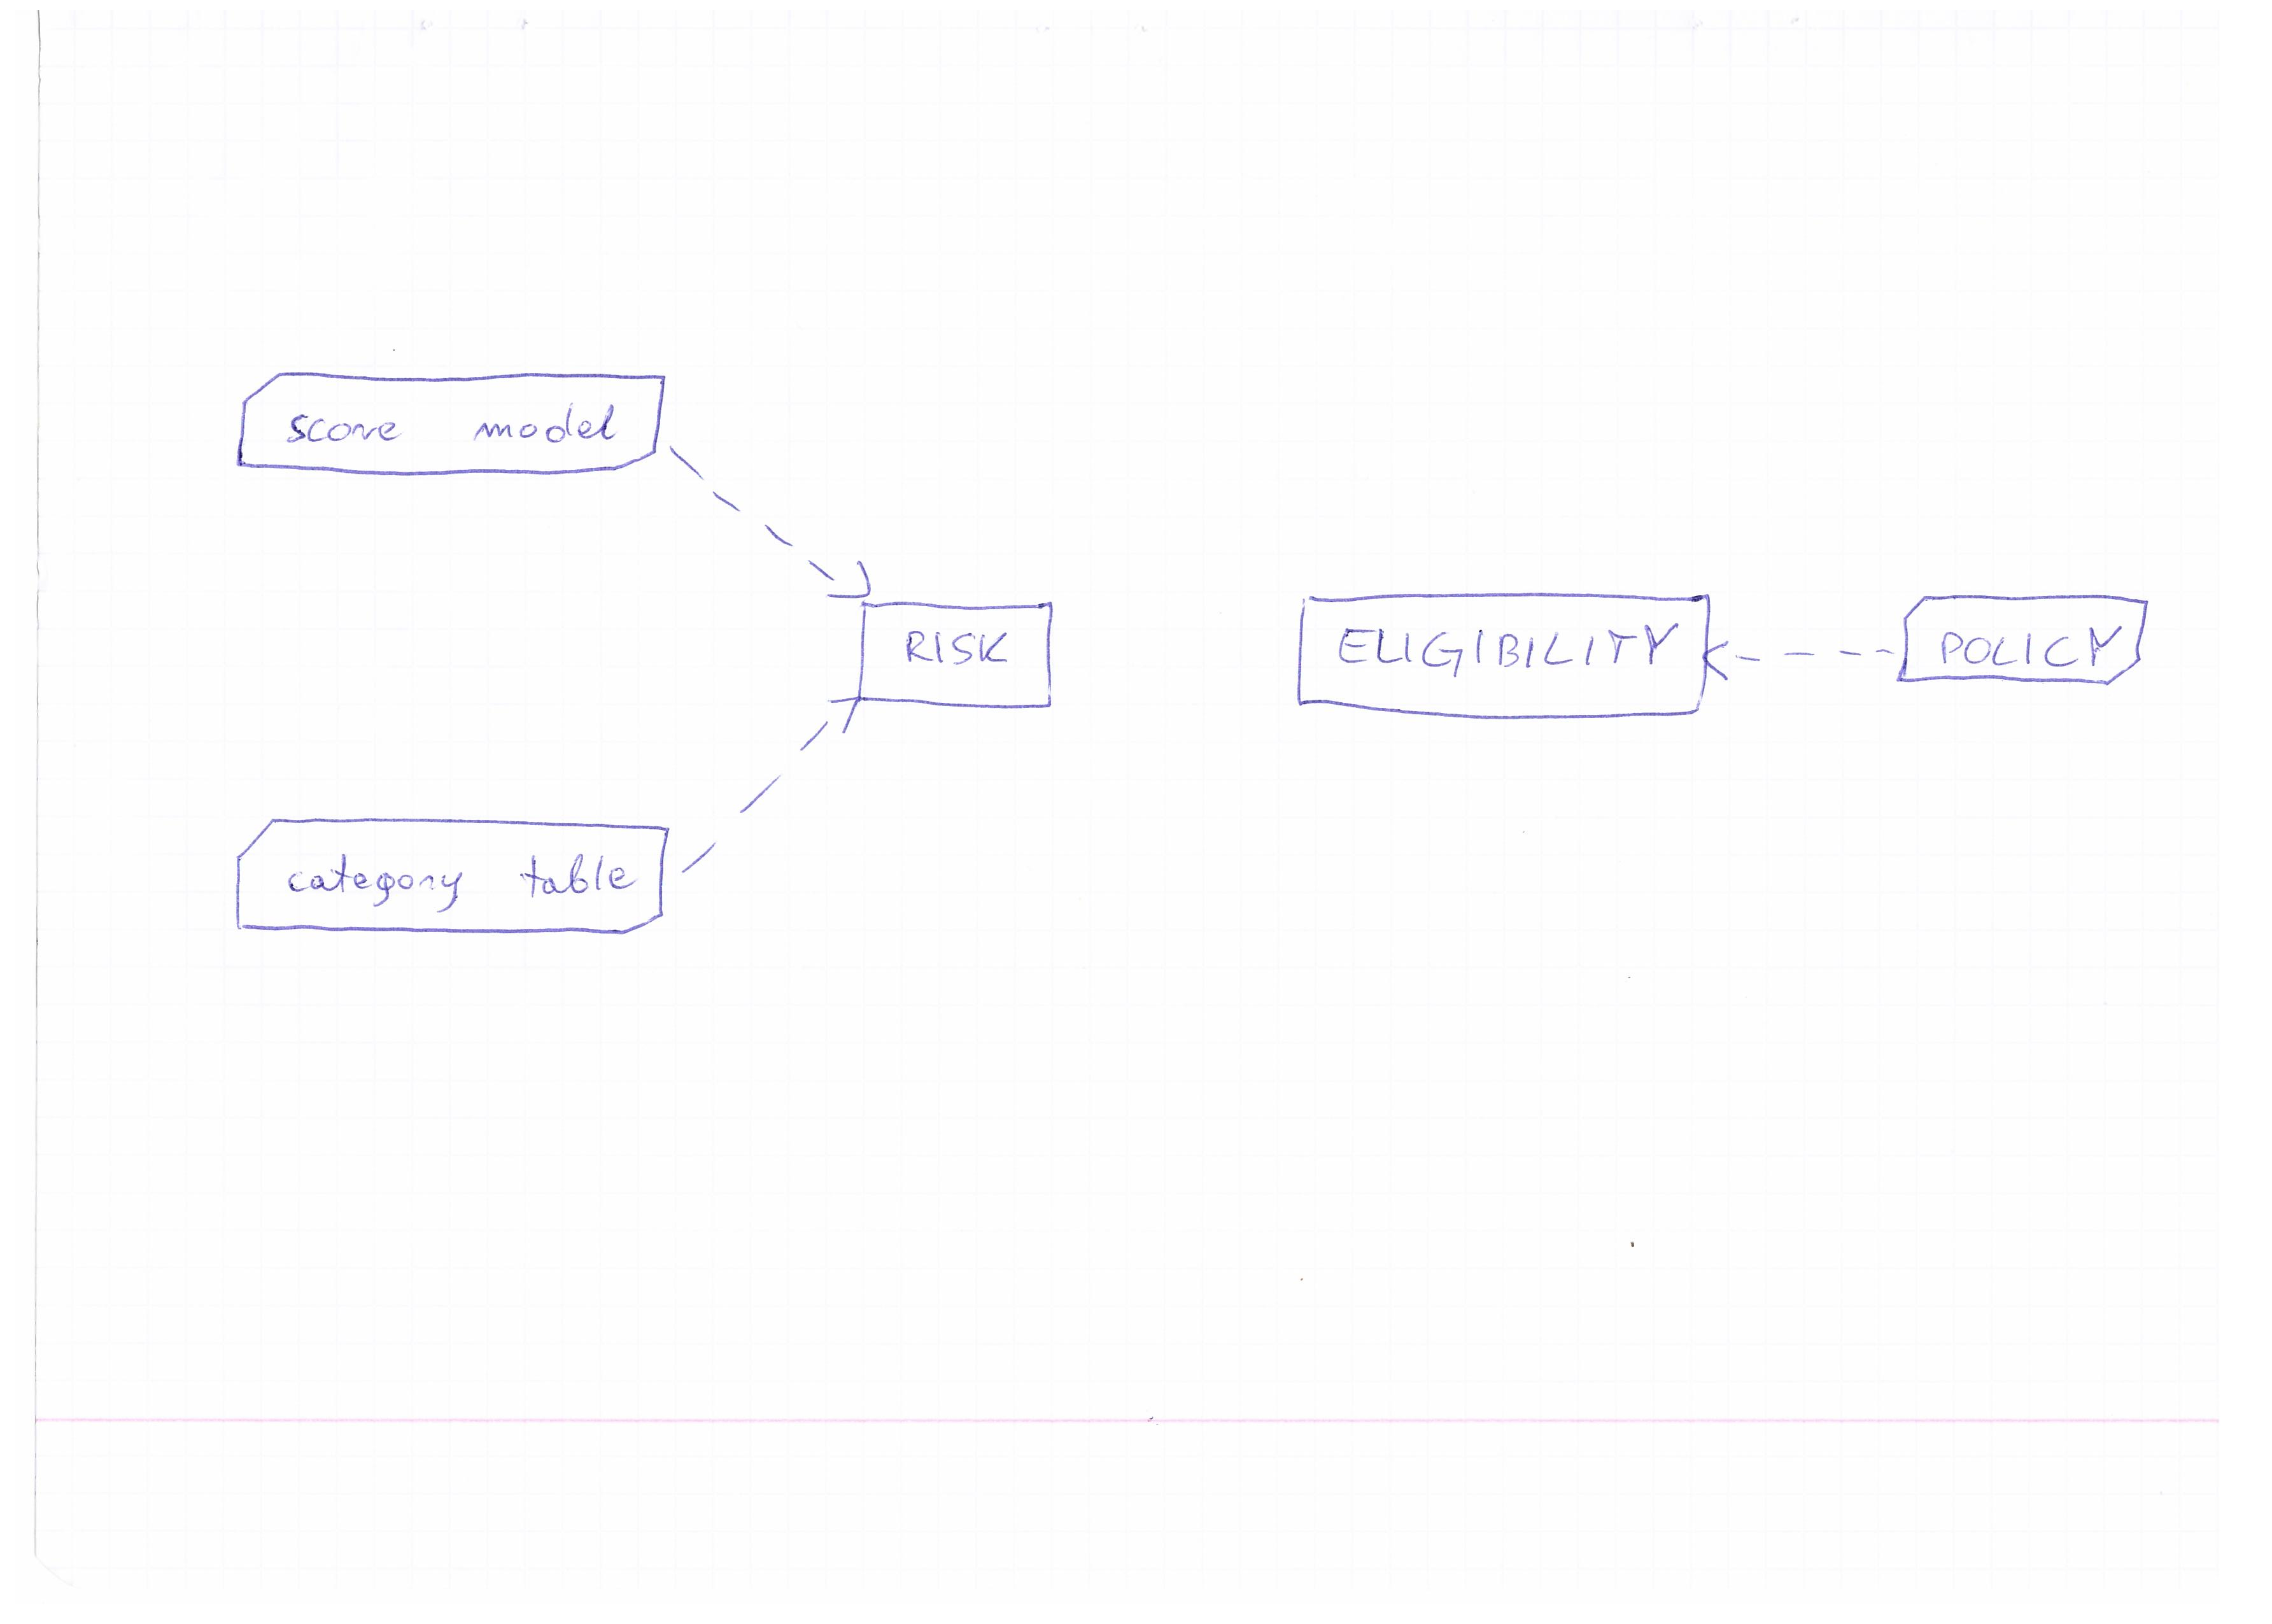arrow_knowledge_requirement: (668, 685, 872, 900), (650, 439, 893, 613), (1694, 629, 1896, 684)
node_decision: (1281, 587, 1713, 736), (850, 598, 1063, 719)
node_knowledge_model: (227, 798, 677, 960), (225, 357, 675, 490), (1899, 585, 2156, 703)
text: (272, 833, 643, 916), (1321, 610, 1685, 685), (267, 388, 622, 448), (1928, 617, 2128, 670), (893, 617, 1030, 684)
